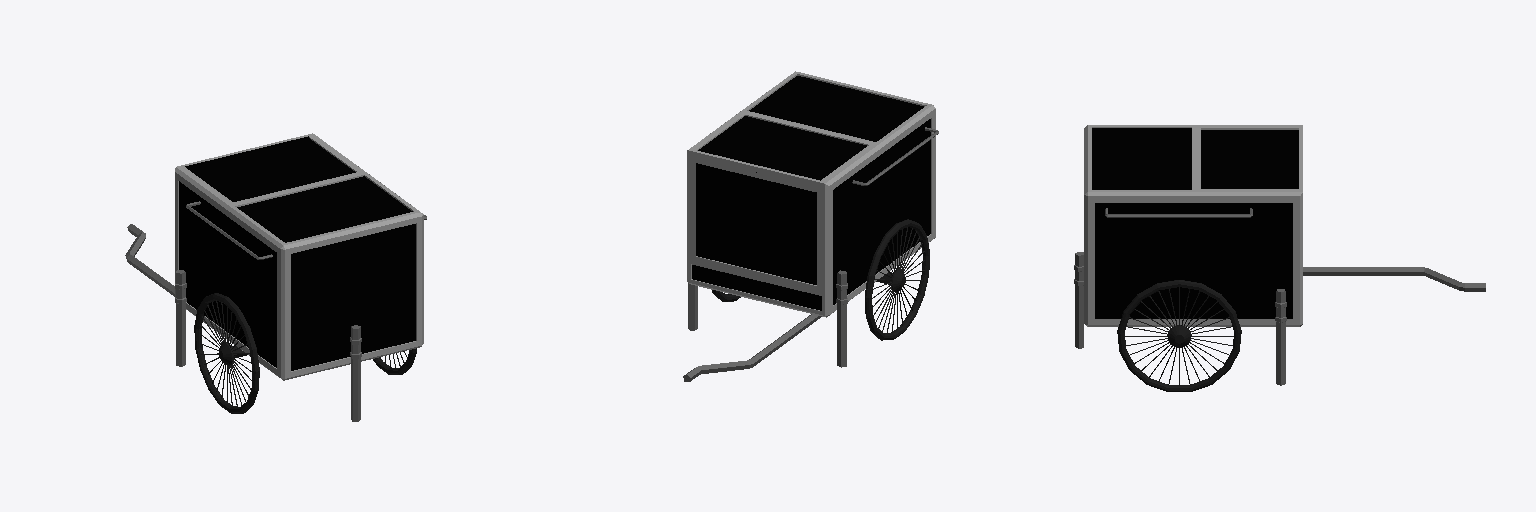
The model's file is vaunu.obj.
3 views of the same model, side by side, from view 1: azimuth 30°, elevation 25°; view 2: azimuth 150°, elevation 25°; view 3: azimuth 270°, elevation 25° (orthographic).
Parts seen in each view (by area): view 1: Nakkivaunu_Cube, Luukku_Cube.001, Renkaat_Cube.004, Kromi_Cube.005; view 2: Nakkivaunu_Cube, Ovi_Cube.002, Luukku_Cube.001, Renkaat_Cube.004, Kromi_Cube.005; view 3: Nakkivaunu_Cube, Luukku_Cube.001, Renkaat_Cube.004, Kromi_Cube.005.
Part boxes in pixels (x1,y1,x2,y2): Nakkivaunu_Cube: (175, 133, 423, 380); Luukku_Cube.001: (179, 134, 362, 204); Renkaat_Cube.004: (194, 293, 416, 413); Kromi_Cube.005: (125, 166, 426, 421); Nakkivaunu_Cube: (687, 71, 935, 317); Ovi_Cube.002: (691, 157, 821, 292); Luukku_Cube.001: (691, 112, 874, 187); Renkaat_Cube.004: (712, 219, 929, 340); Kromi_Cube.005: (683, 92, 938, 381); Nakkivaunu_Cube: (1084, 125, 1302, 326); Luukku_Cube.001: (1197, 126, 1302, 190); Renkaat_Cube.004: (1117, 280, 1241, 391); Kromi_Cube.005: (1074, 208, 1485, 385).
Size of the model in its own units: 1.87 by 2.05 by 3.92.